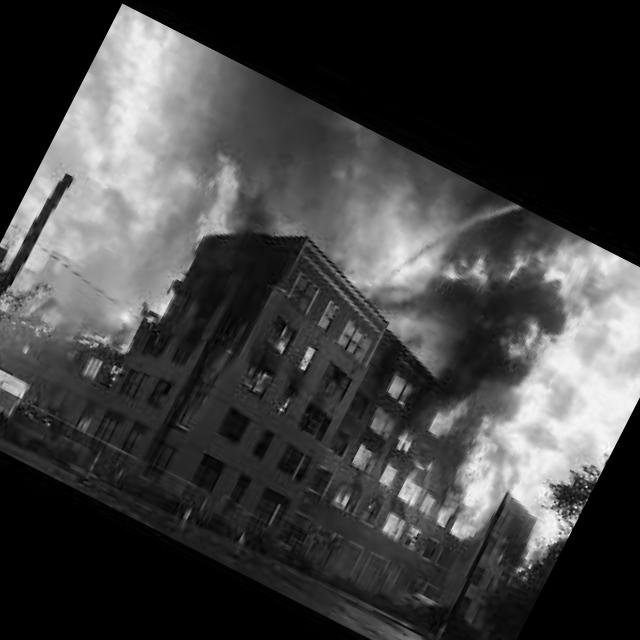fire: (378, 387, 538, 577), (173, 140, 262, 250), (245, 318, 329, 410), (61, 312, 142, 390), (372, 422, 422, 496), (330, 475, 366, 515)
smoke: (367, 165, 573, 372), (165, 52, 382, 238), (402, 250, 570, 457), (196, 184, 306, 324)
